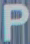Parking: (1, 2, 29, 41)
